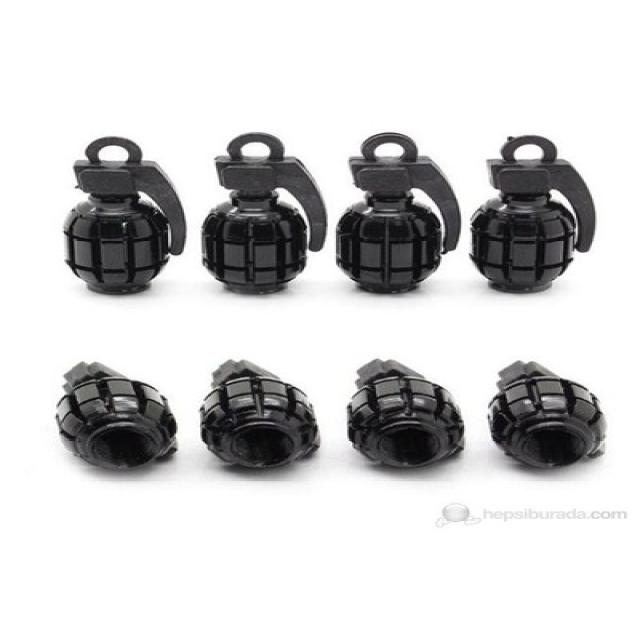grenade: (329, 130, 464, 300), (194, 137, 333, 297), (466, 134, 600, 298), (60, 132, 188, 298), (52, 361, 188, 476), (344, 356, 476, 474), (481, 362, 614, 476), (200, 354, 322, 471)
